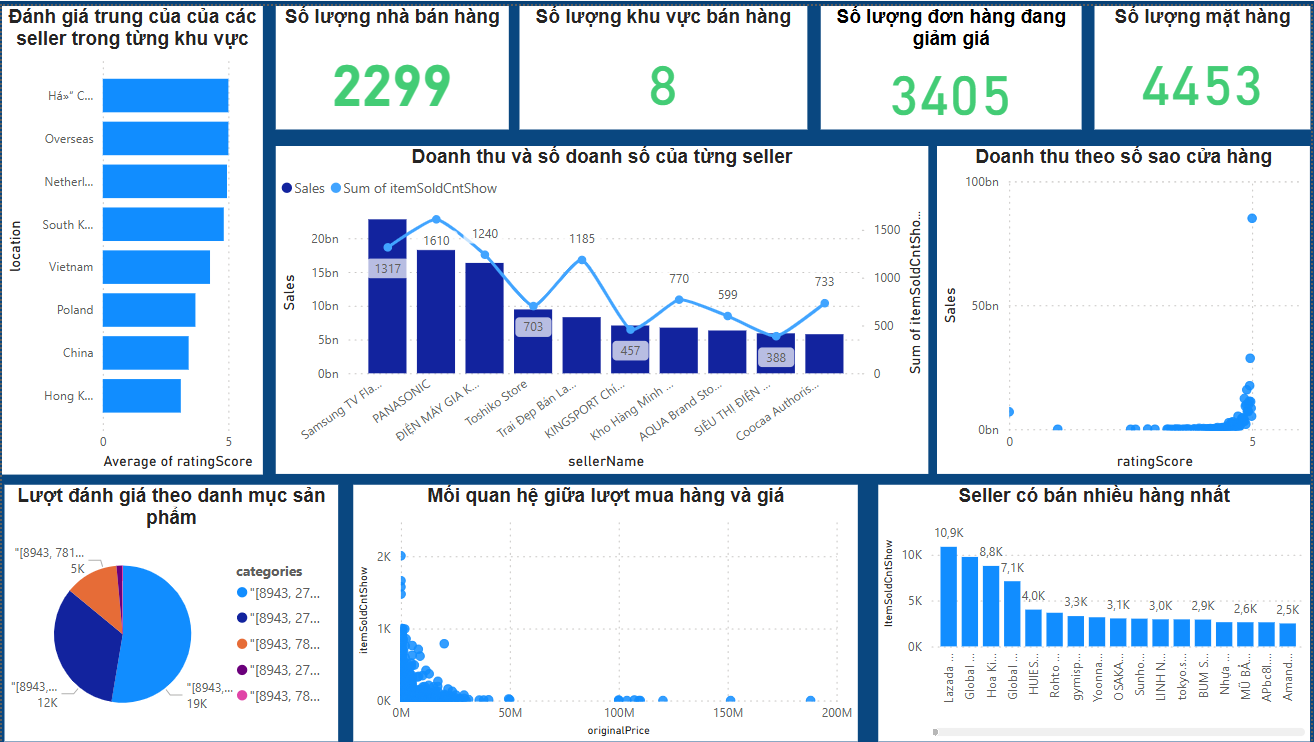

Layout of this report page (visuals, bound fields, positions):
{"tool":"powerbi","page":{"name":"Page 1","canvas":[1280,720],"ordinal":0},"visuals":[{"type":"clusteredColumnChart","title":"Seller có bán nhiều hàng nhất","fields":{"Category":["Dim_Seller.sellerName"],"Y":["Sum(Fact_Transactions.itemSoldCntShow)"]},"box":[857.6,467.9,422.6,251.1],"z":0},{"type":"clusteredBarChart","title":"Đánh giá trung của của các seller trong từng khu vực","fields":{"Category":["Dim_Seller.location"],"Y":["Avg(Fact_Transactions.ratingScore)"]},"box":[0,0,255.2,458.3],"z":1000},{"type":"pieChart","title":"Lượt đánh giá theo danh mục sản phẩm","fields":{"Category":["Dim_Category.categories"],"Y":["Sum(Fact_Transactions.review)"]},"box":[2.7,467.9,326.6,251.1],"z":2000},{"type":"scatterChart","title":"Mối quan hệ giữa lượt mua hàng và giá","fields":{"X":["Fact_Transactions.originalPrice"],"Y":["Fact_Transactions.itemSoldCntShow"]},"box":[343.1,467.9,494,251.1],"z":3000},{"type":"lineClusteredColumnComboChart","title":"Doanh thu  và số  doanh số của từng seller","fields":{"Category":["Dim_Seller.sellerName"],"Y":["Fact_Transactions.Sales"],"Y2":["Sum(Fact_Transactions.itemSoldCntShow)"]},"box":[267.6,137.2,638.1,321.1],"z":4000},{"type":"scatterChart","title":"Doanh thu theo số sao cửa hàng","fields":{"X":["Fact_Transactions.ratingScore"],"Y":["Fact_Transactions.Sales"]},"box":[915.3,137.2,365,321.1],"z":5000},{"type":"card","title":"Số lượng mặt hàng","fields":{"Values":["CountNonNull(Fact_Transactions.Fact_ID)"]},"box":[1069,0,211.3,120.8],"z":6000},{"type":"card","title":"Số lượng đơn hàng đang giảm giá","fields":{"Values":["Dim_Product.Measure"]},"box":[801.4,0,255.2,120.8],"z":7000},{"type":"card","title":"Số lượng khu vực bán hàng","fields":{"Values":["Count(Dim_Seller.location)"]},"box":[506.3,0,281.3,120.8],"z":8000},{"type":"card","title":"Số lượng nhà bán hàng","fields":{"Values":["Count(Dim_Seller.sellerId)"]},"box":[267.6,0,227.8,120.8],"z":9000}]}

Visuals, with their boxes in screenshot pixels (x1, y1, x2, y2), scaled from the page's 1280x720 canvas onto the 1314x742 screenshot:
"Seller có bán nhiều hàng nhất" clusteredColumnChart: x1=880 y1=482 x2=1313 y2=741
"Đánh giá trung của của các seller trong từng khu vực" clusteredBarChart: x1=0 y1=0 x2=262 y2=472
"Lượt đánh giá theo danh mục sản phẩm" pieChart: x1=3 y1=482 x2=338 y2=741
"Mối quan hệ giữa lượt mua hàng và giá" scatterChart: x1=352 y1=482 x2=859 y2=741
"Doanh thu  và số  doanh số của từng seller" lineClusteredColumnComboChart: x1=275 y1=141 x2=930 y2=472
"Doanh thu theo số sao cửa hàng" scatterChart: x1=940 y1=141 x2=1313 y2=472
"Số lượng mặt hàng" card: x1=1097 y1=0 x2=1313 y2=124
"Số lượng đơn hàng đang giảm giá" card: x1=823 y1=0 x2=1085 y2=124
"Số lượng khu vực bán hàng" card: x1=520 y1=0 x2=809 y2=124
"Số lượng nhà bán hàng" card: x1=275 y1=0 x2=509 y2=124
